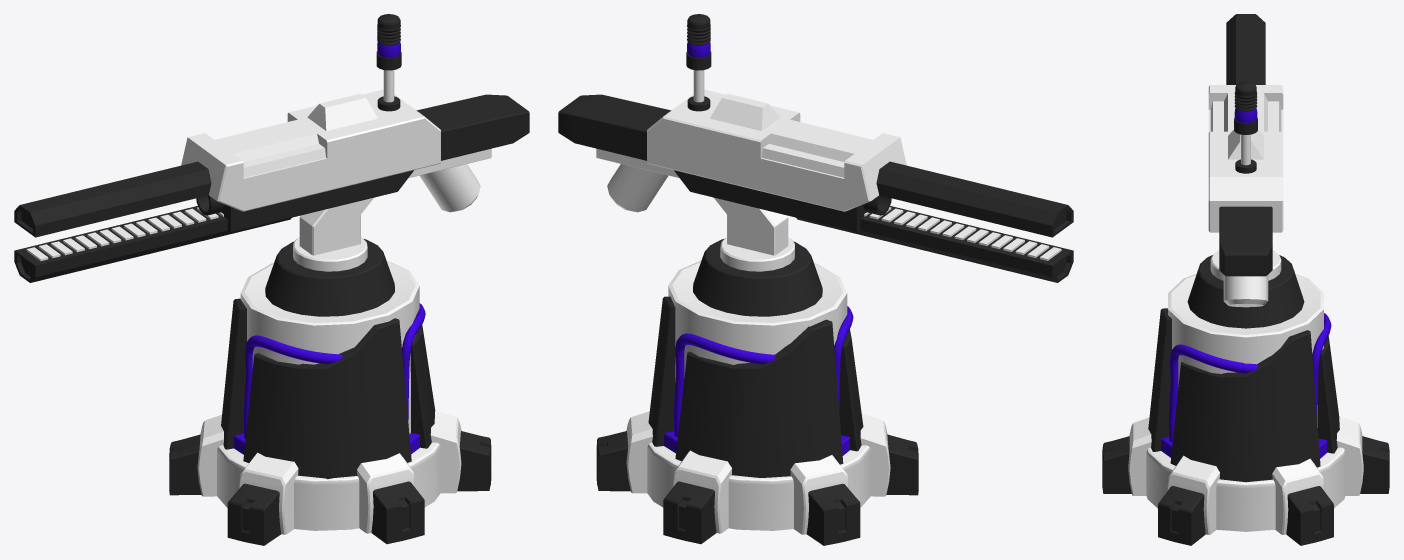
File: SM_Sniper.fbx
3 views of the same model, side by side, from view 1: azimuth 30°, elevation 25°; view 2: azimuth 150°, elevation 25°; view 3: azimuth 270°, elevation 25° (orthographic). The views are drawn at different scales.
Visible parts, largest first — view 1: SM_Sniper_Base, SM_Sniper_Canon; view 2: SM_Sniper_Base, SM_Sniper_Canon; view 3: SM_Sniper_Base, SM_Sniper_Canon.
Boxes of the visible parts, left/top/right/bottom form: SM_Sniper_Base: left=169, top=239, right=491, bottom=545; SM_Sniper_Canon: left=14, top=14, right=529, bottom=282; SM_Sniper_Base: left=596, top=239, right=918, bottom=545; SM_Sniper_Canon: left=558, top=14, right=1073, bottom=282; SM_Sniper_Base: left=1102, top=255, right=1389, bottom=545; SM_Sniper_Canon: left=1208, top=14, right=1283, bottom=307.
Size of the model in its own units: 3.37 by 2.96 by 1.8.
